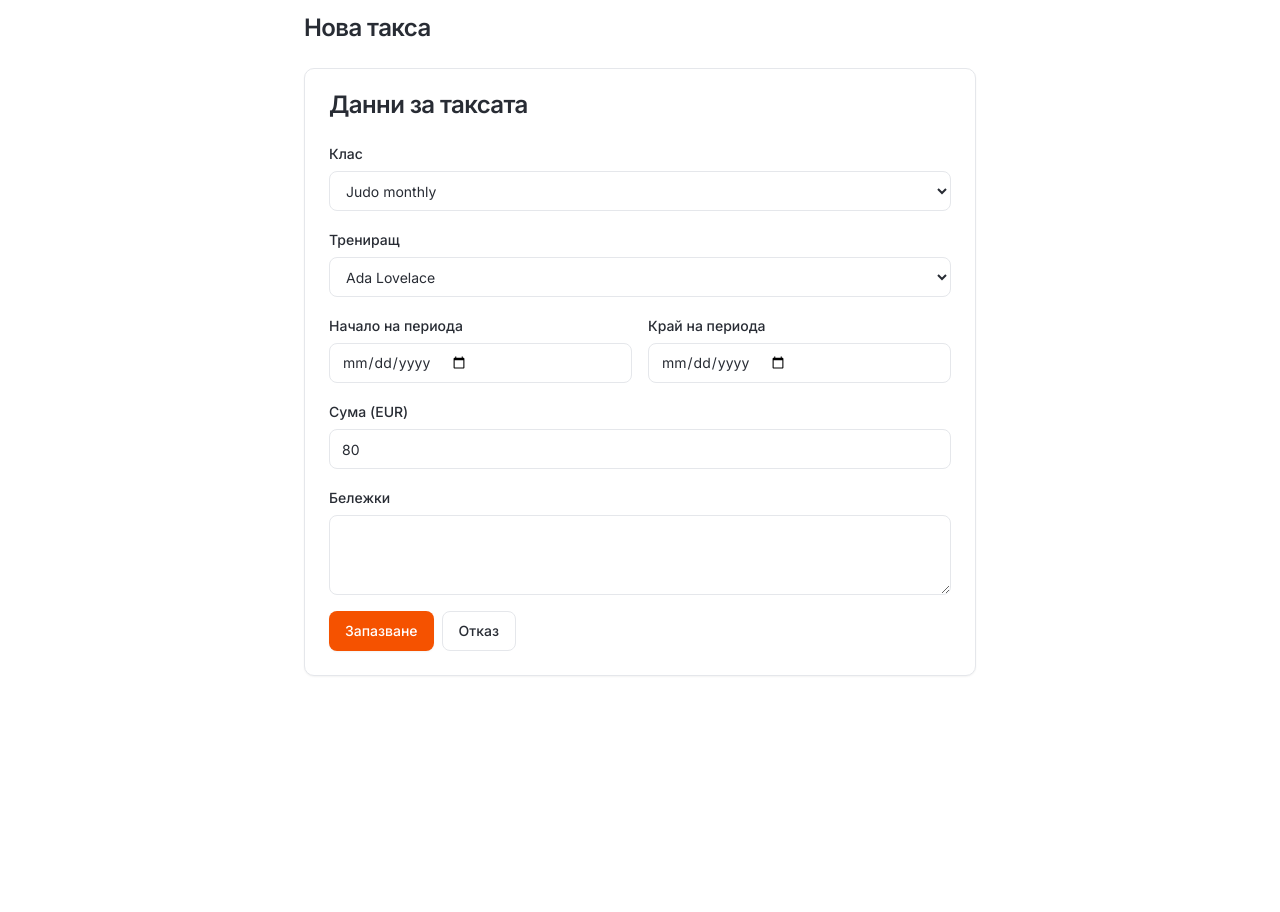
Test: NewFeePage — amount › submitted unchanged, the created fee references both parents from the parameters
This screenshot has width=1280, height=912.
Expected: the dropdown labelled "Клас" shows "Judo monthly", [329, 171, 951, 211]
Type "2026-03-01" into the date field labelled "Начало на периода" at (480, 363), box [329, 343, 632, 383]
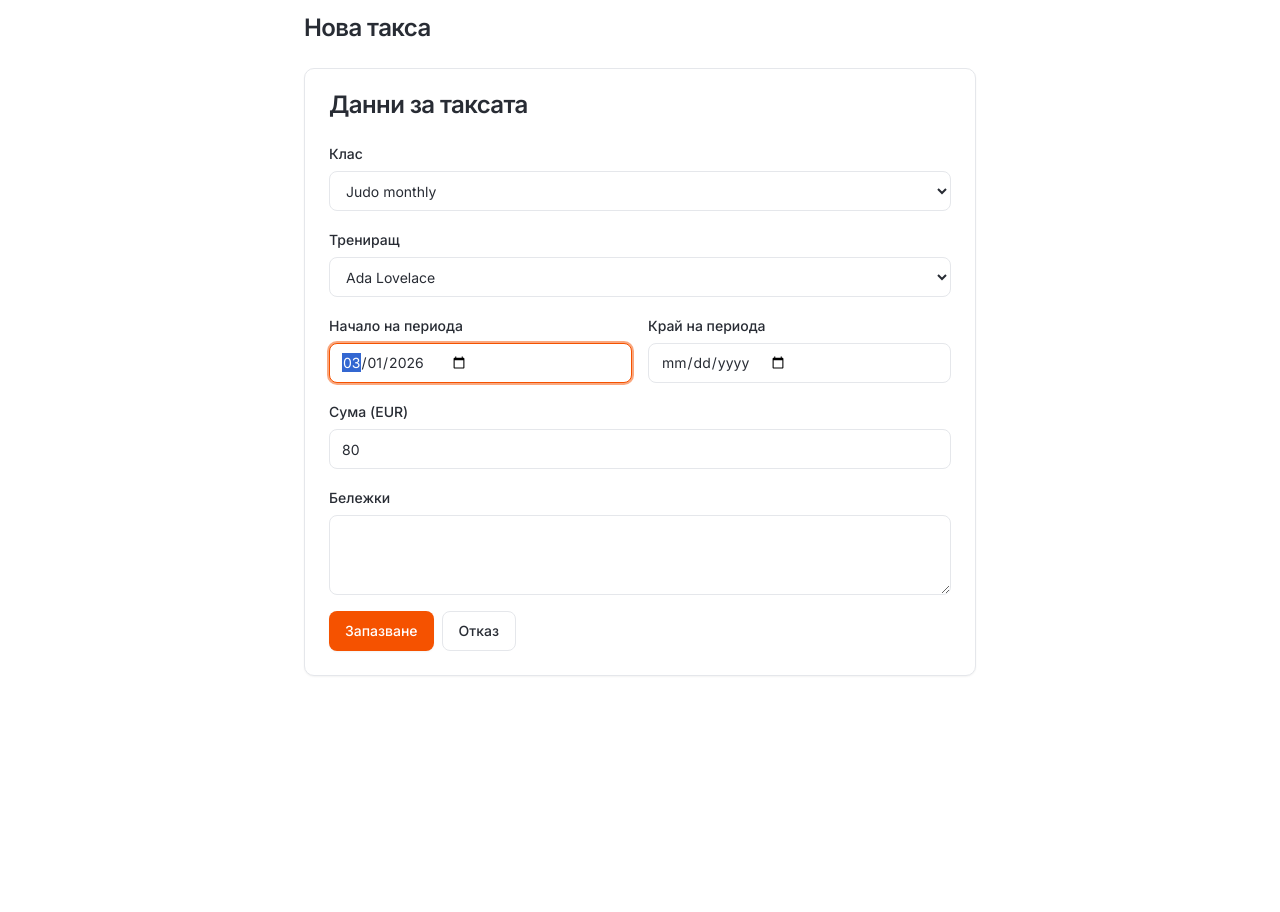
Type "2026-03-31" into the date field labelled "Край на периода" at (800, 363), box [648, 343, 951, 383]
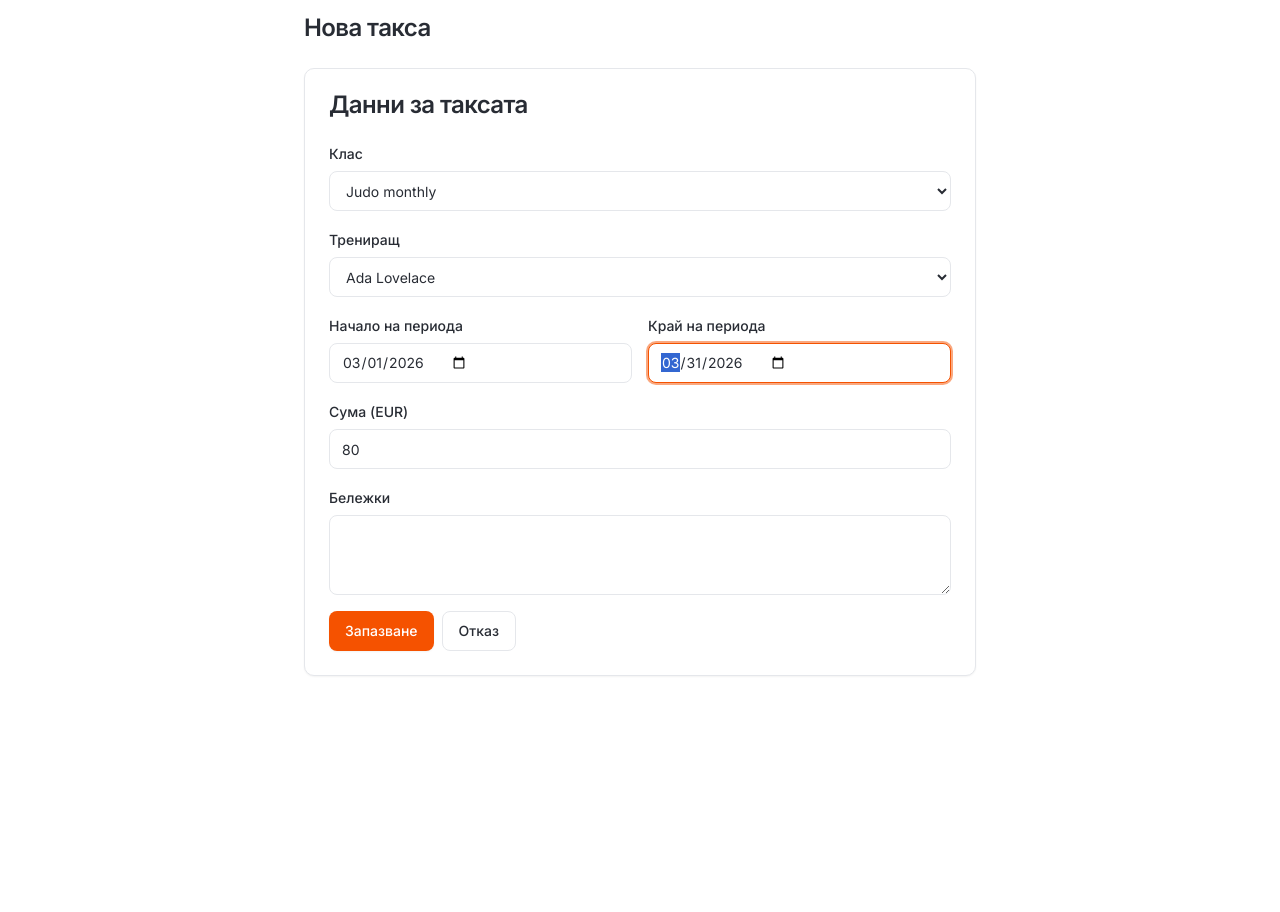
Click the button "Запазване" at (381, 631), box [329, 611, 434, 651]
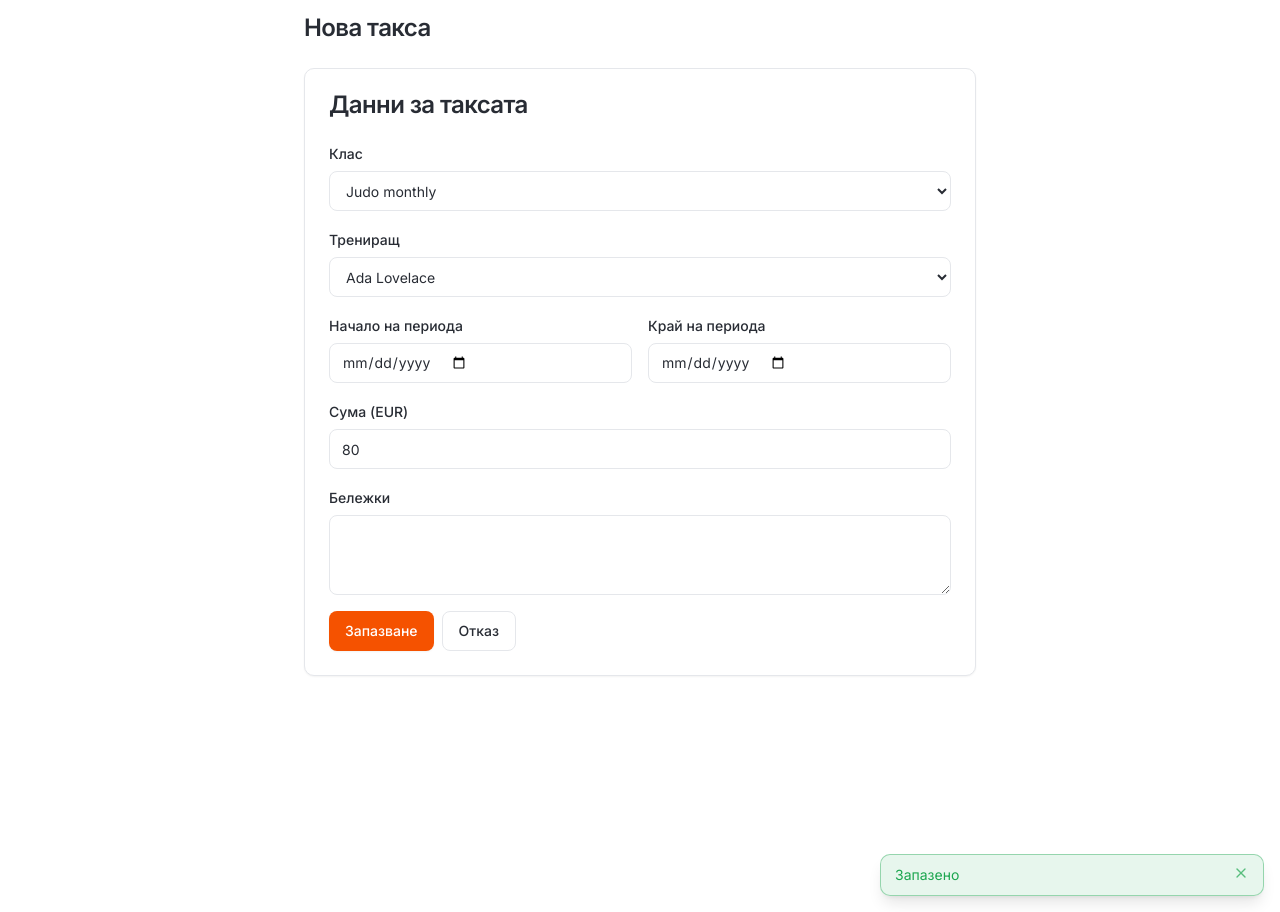
Expected: the dropdown labelled "Клас" shows "Judo monthly", [329, 171, 951, 211]
Expected: the text "Запазено" is shown, [895, 866, 959, 883]
Expected: the date field labelled "Начало на периода" is empty, [329, 343, 632, 383]
